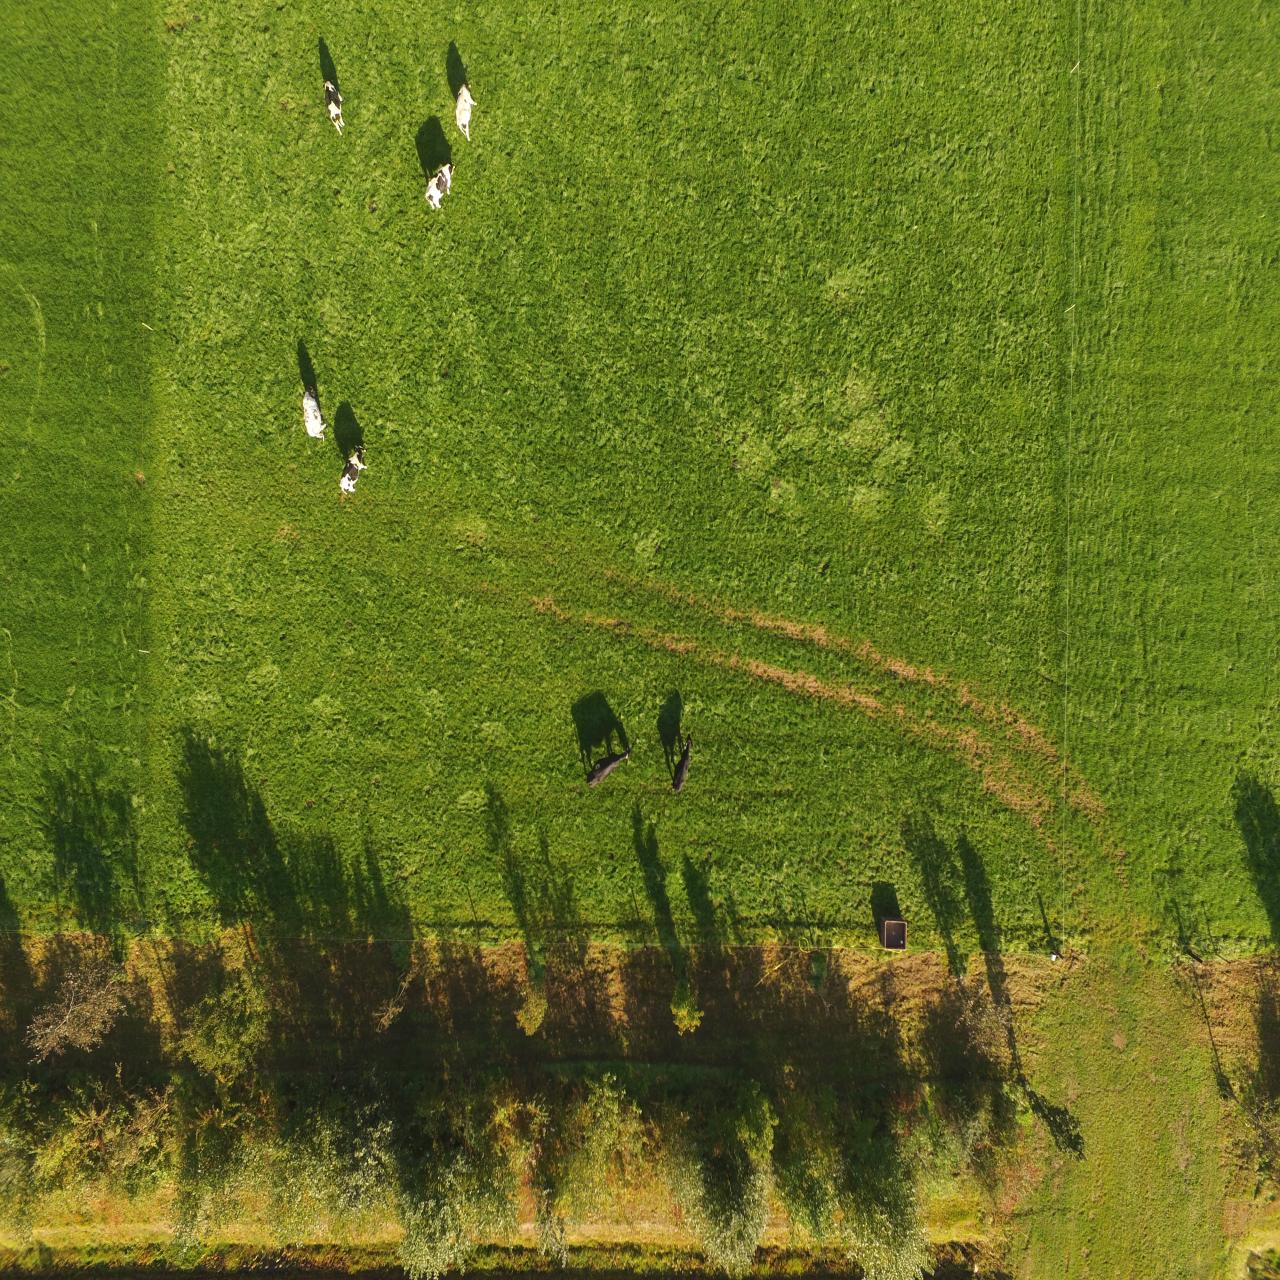cow: (583, 749, 633, 789), (321, 77, 355, 130), (338, 443, 369, 497), (300, 382, 327, 445), (425, 162, 457, 215), (452, 82, 479, 142), (672, 735, 696, 795)
